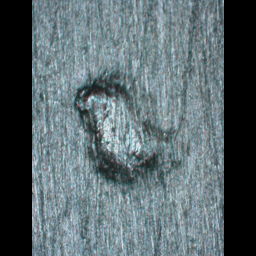d: (66, 67, 181, 190)
